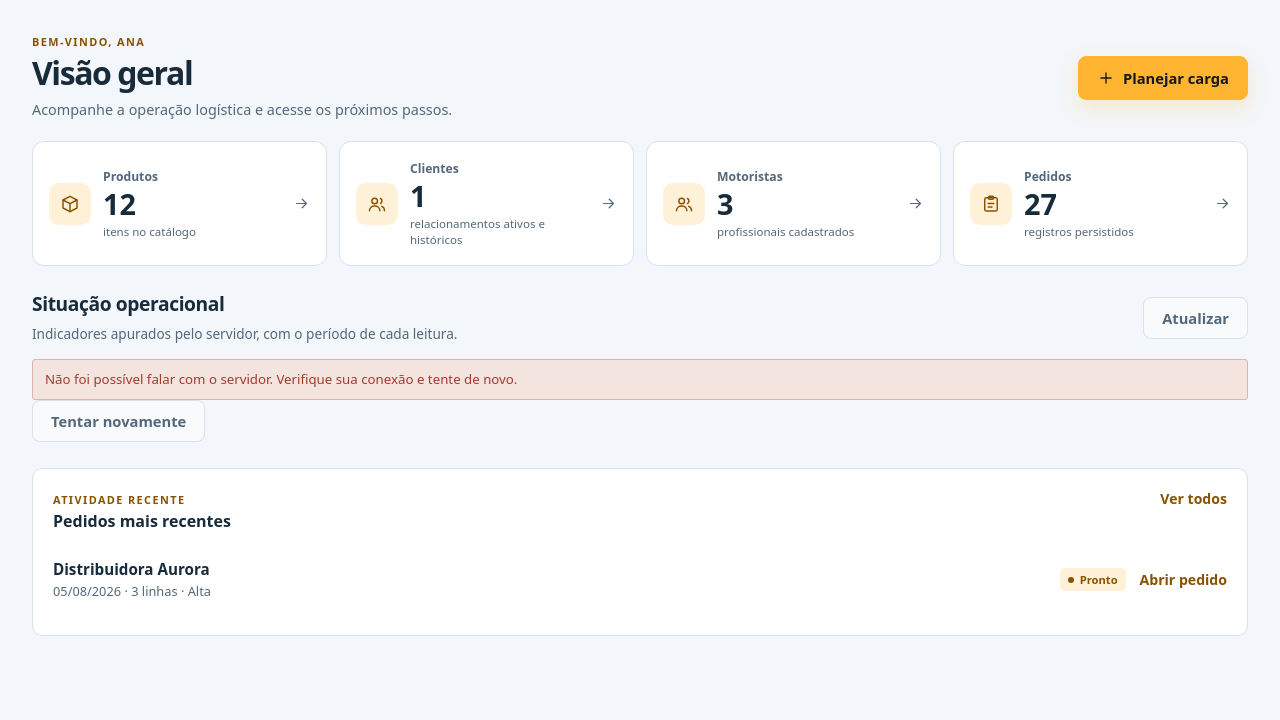
Scenario: DashboardPage › falha operacional preserva pedidos recentes e permite nova tentativa
Expected: the message "Não foi possível falar com o servidor. Verifique sua conexão e tente de novo." is shown, [32,359,1248,400]
Expected: the text "Distribuidora Aurora" is shown, [53,559,210,579]
Click the button "Tentar novamente" at (119, 421), box [32,400,205,442]
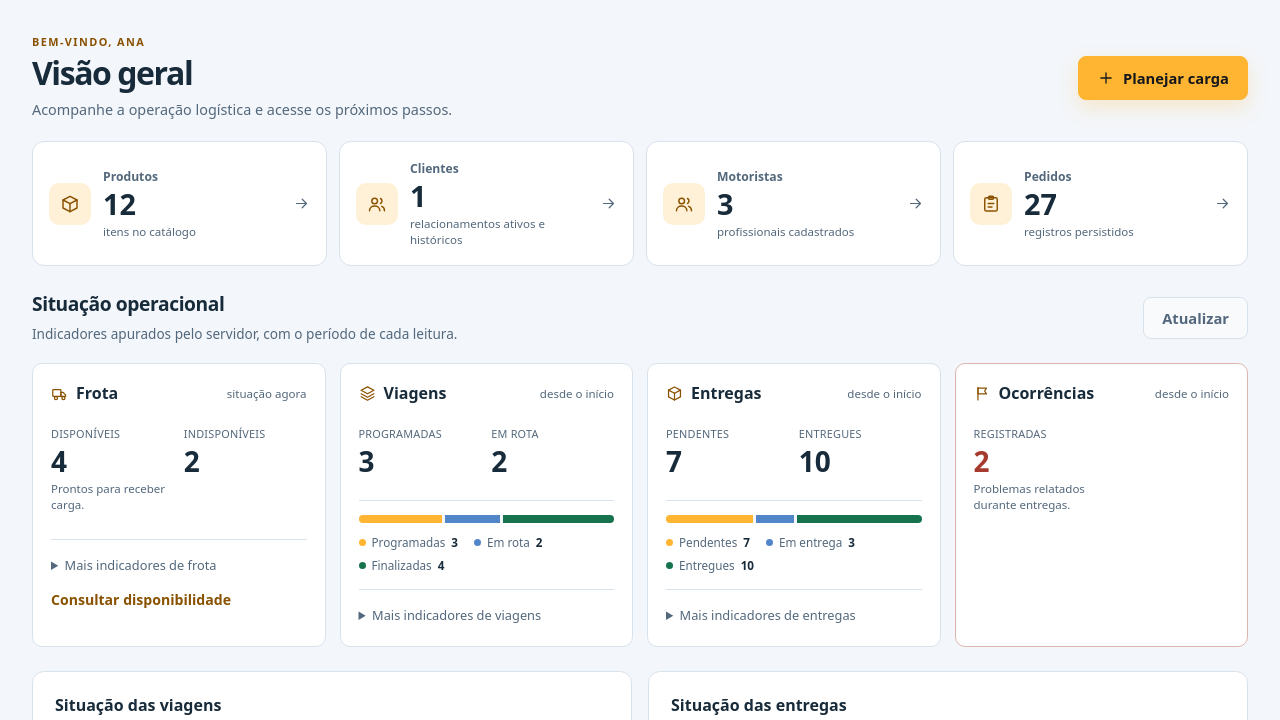
Result: the heading "Frota" is shown at [51,382,118,404]
